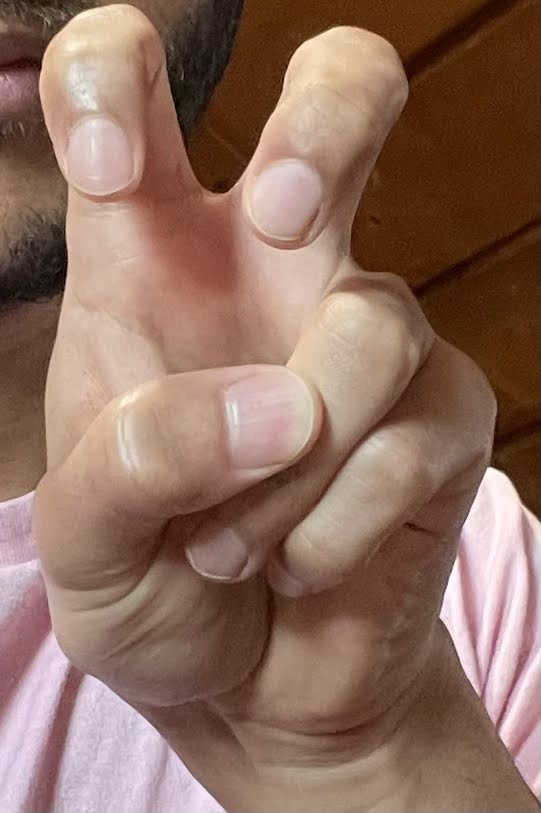pizza: (24, 2, 500, 758)
